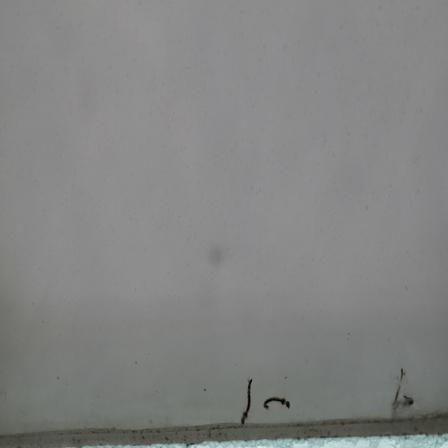Jentik-Nyamuk: (238, 375, 255, 429), (261, 393, 294, 415)
